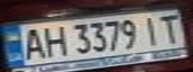3: (87, 19, 109, 53), (69, 20, 90, 55)
7: (103, 17, 124, 52)
9: (118, 16, 142, 50)
A: (18, 25, 48, 61)
H: (39, 24, 69, 57)
I: (136, 13, 163, 46)
T: (154, 11, 184, 44)
